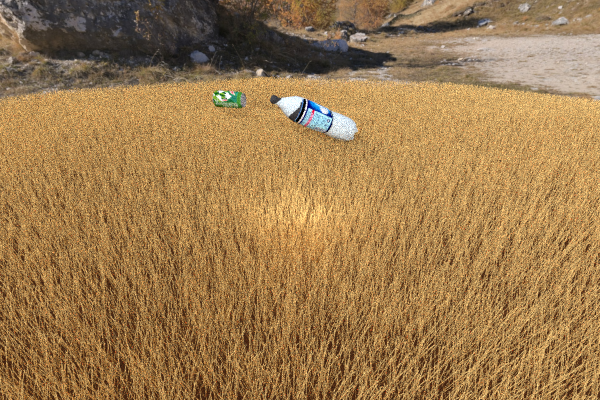Plastic Bottle: (270, 94, 357, 141), (212, 90, 246, 108), (200, 82, 229, 101)
